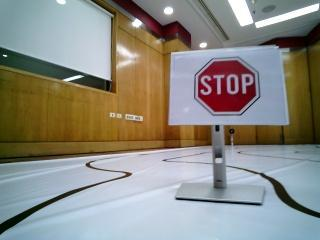stop: (178, 53, 273, 122)
